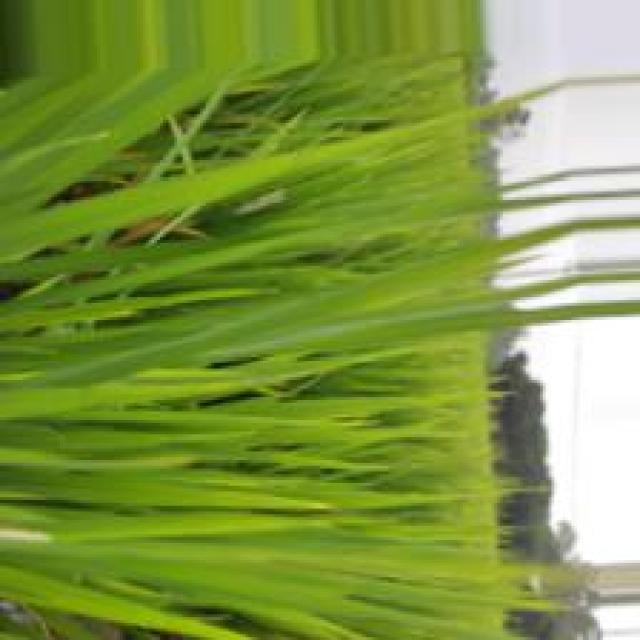HealthyLeaf: (0, 220, 640, 640)
